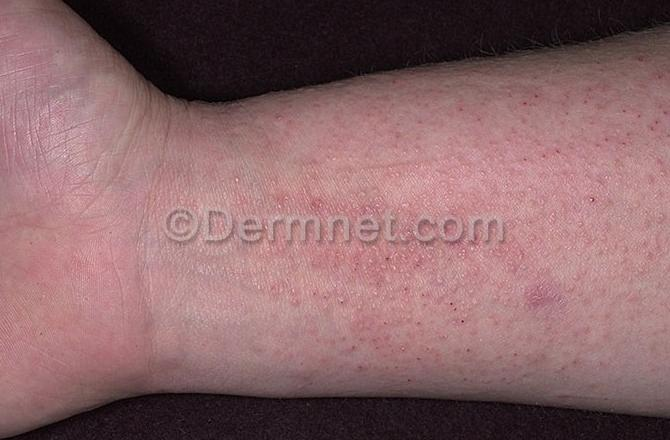eritema 1: (246, 69, 670, 383)
exudacion 1: (296, 241, 504, 385)
exudacion 3: (415, 80, 670, 181)
